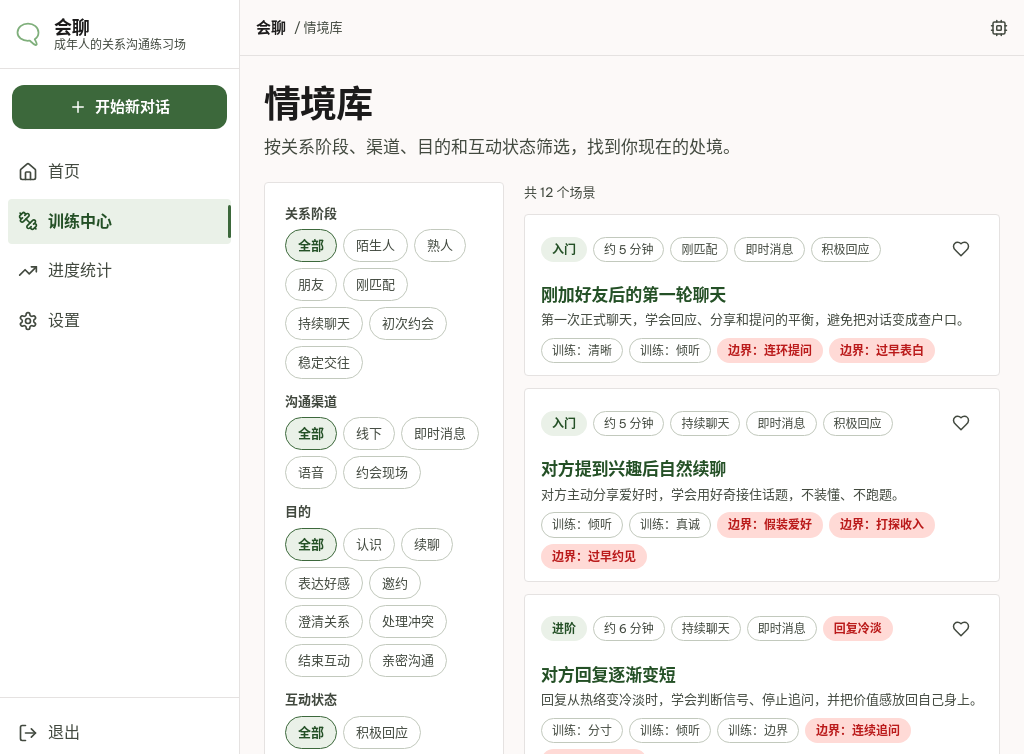
路由与首次设置门禁 › 运行期间本地数据损坏后，下一次写操作进入恢复页且不覆盖原值
The image size is (1024, 754).
Click the 1st button named "收藏". click: (961, 249)
box: 939,227 -> 983,271
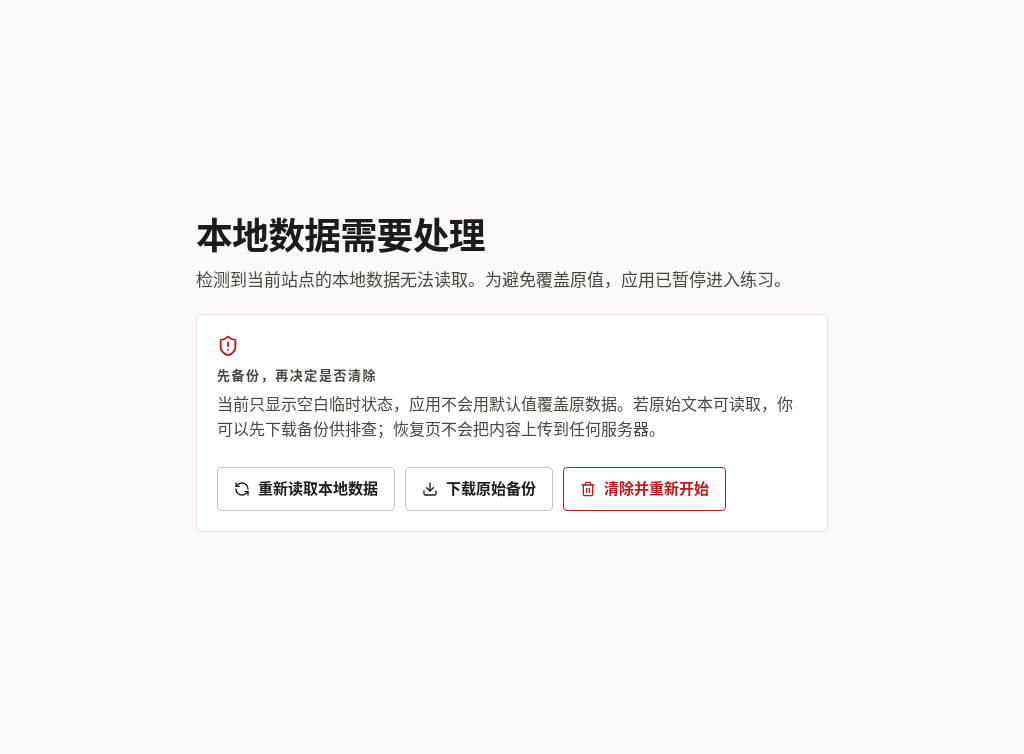
Expected: the heading "本地数据需要处理" is shown, 196,206 -> 485,260
